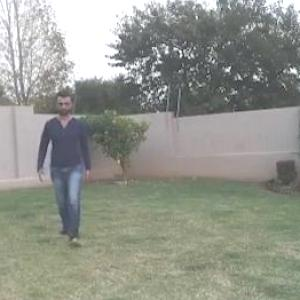follow: (47, 94, 93, 237)
